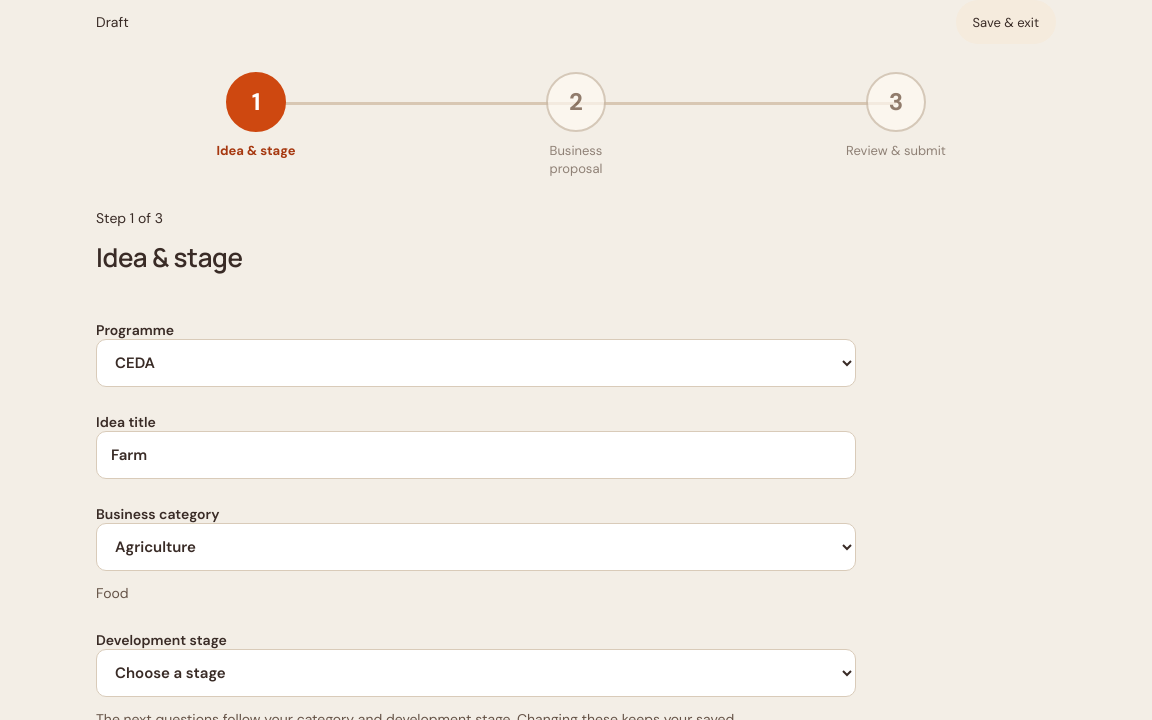
asks only relevant stage questions and requires the online proposal instead of a document
Select "Concept" in the dropdown labelled "Development stage" at (476, 673), box [96,649,856,697]
(page scrolled)
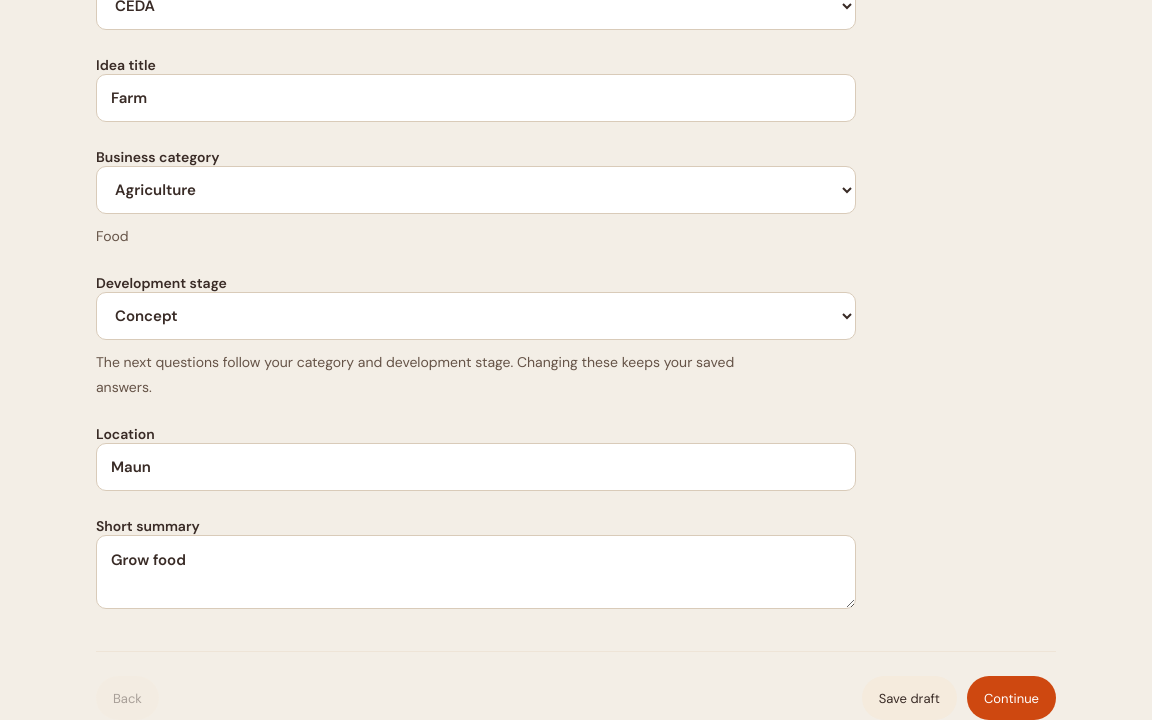
Click the button "Continue".
click(1012, 698)  # box [967,676,1056,719]
(page scrolled)
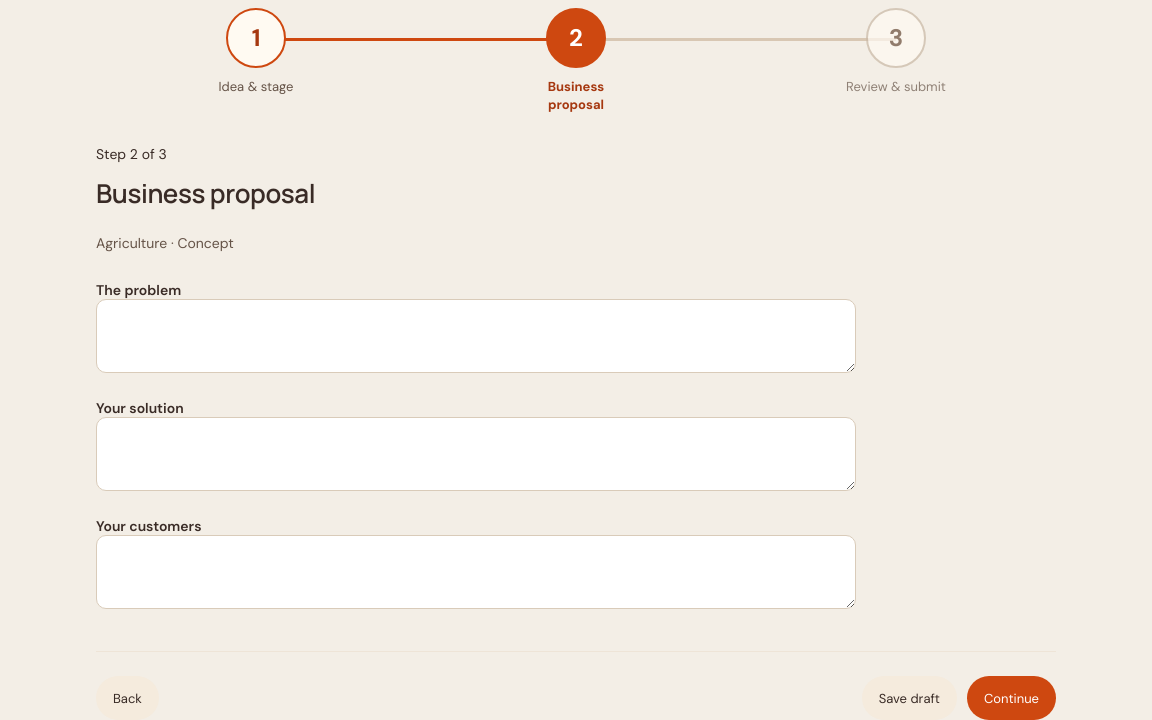
Expected: the text box labelled "The problem" is shown, [96,299,856,373]
Expected: the text "What did the trial show?" is not shown
Click the button "Continue".
click(1012, 698)  # box [967,676,1056,719]
(page scrolled)
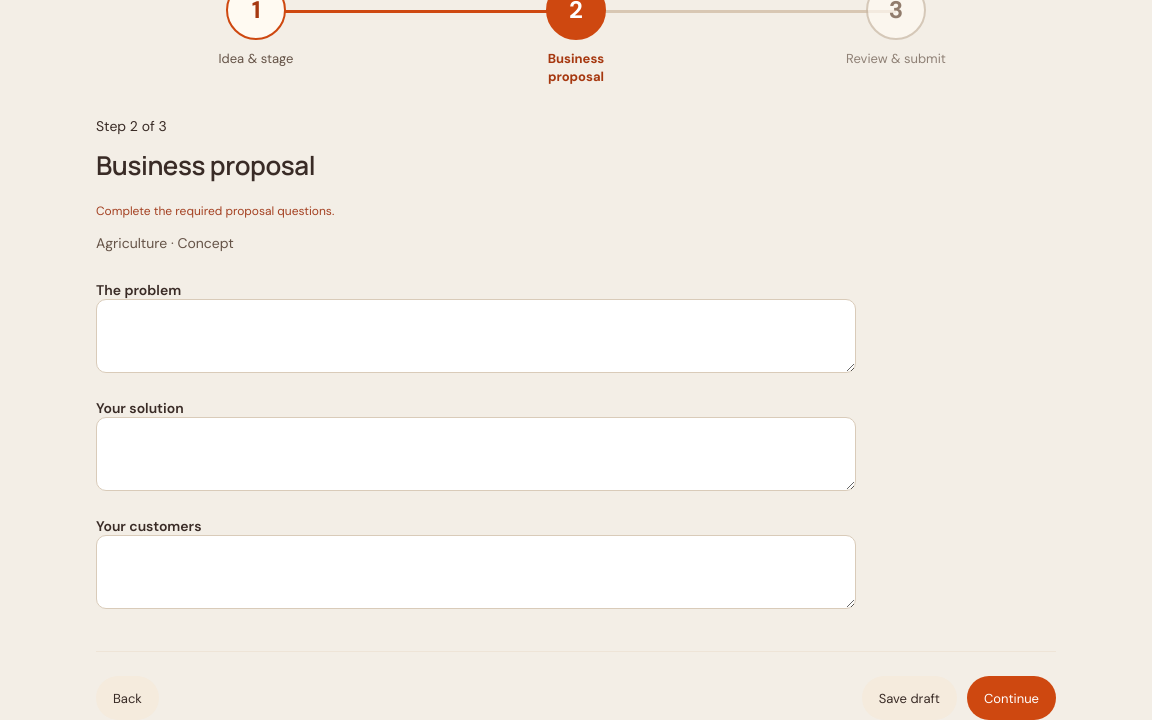
Expected: the message shows "required proposal", [96,203,334,219]
Click the button "Back".
click(127, 698)  # box [96,676,159,719]
(page scrolled)
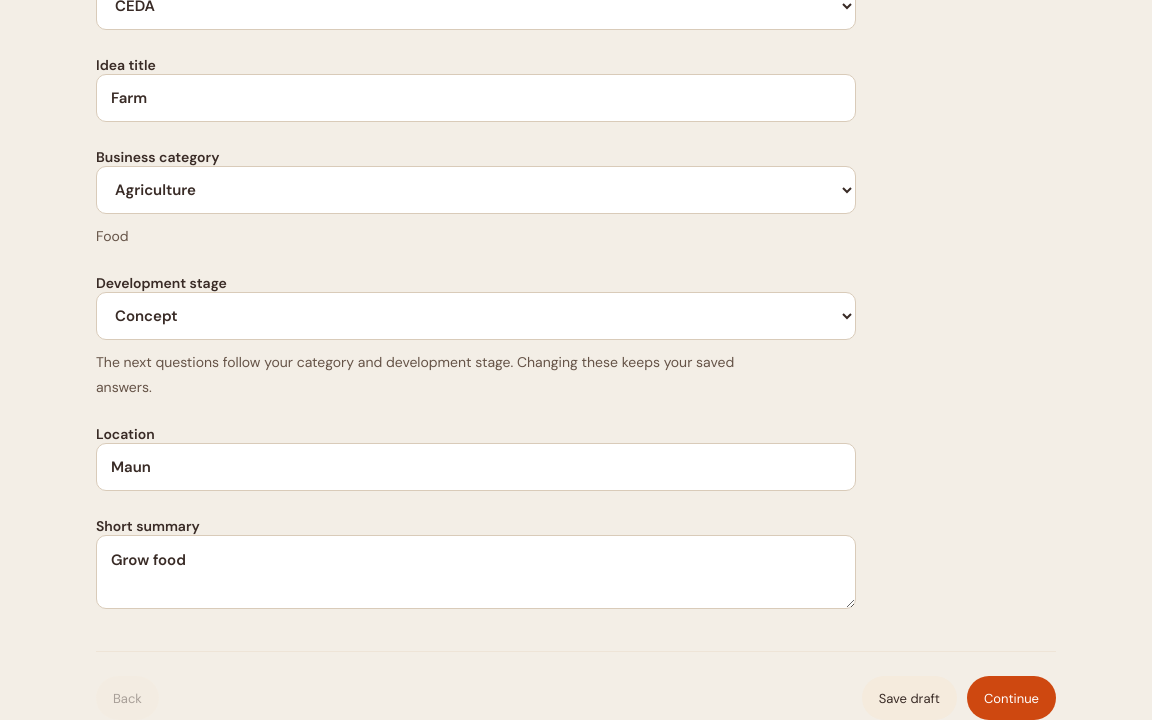
Select "Prototype" in the dropdown labelled "Development stage" at (476, 316), box [96,292,856,340]
(page scrolled)
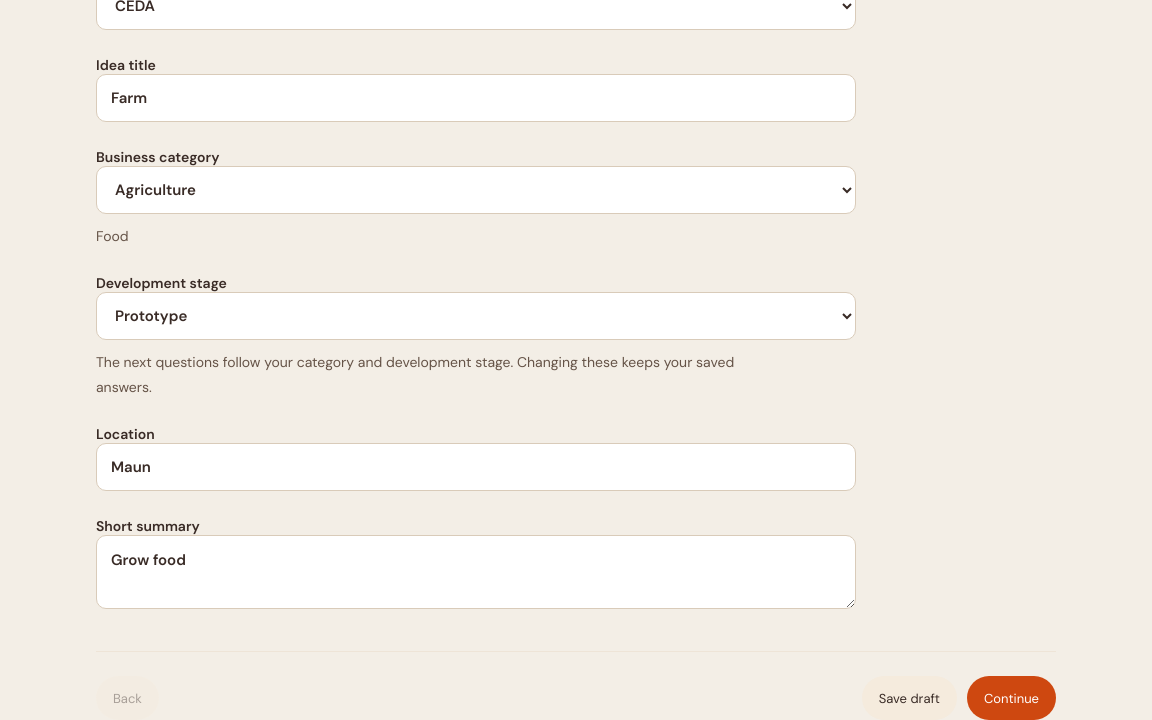
Click the button "Continue".
click(1012, 698)  # box [967,676,1056,719]
(page scrolled)
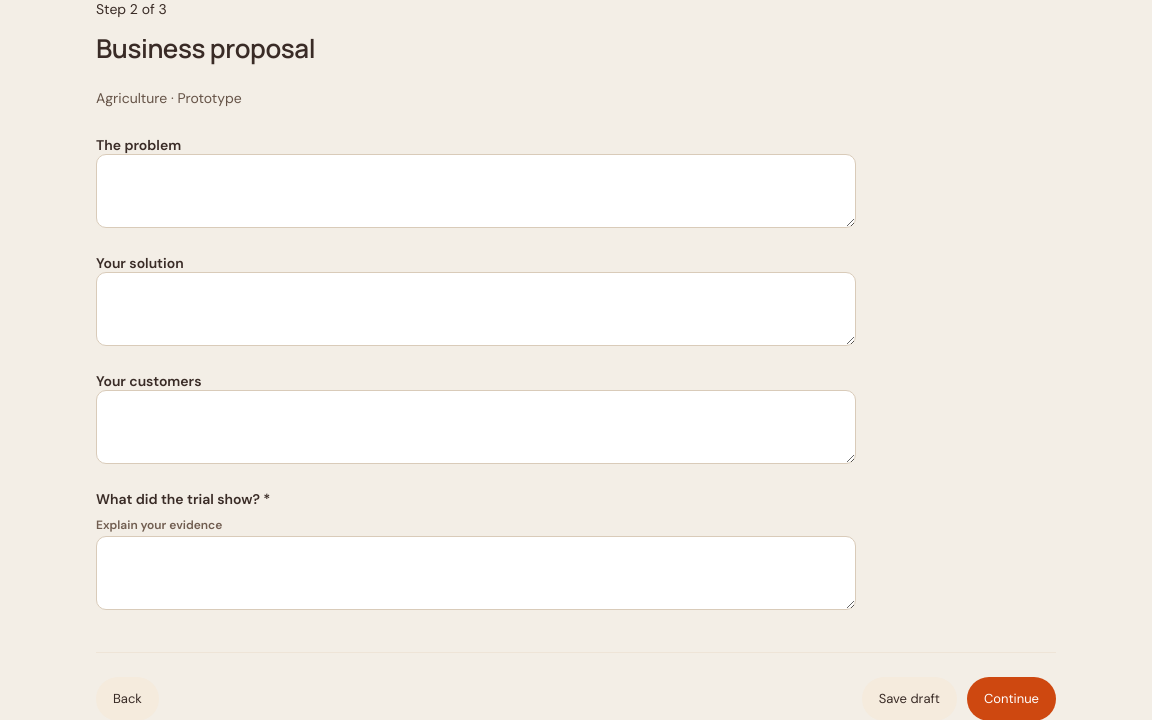
Expected: the text "What did the trial show? * Explain your evidence" is shown, [96,490,856,610]
